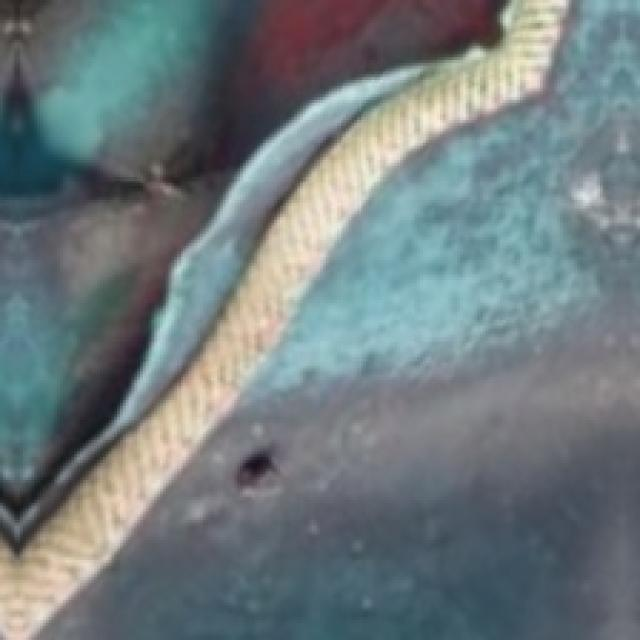paradise tree snake: (0, 3, 637, 637)
